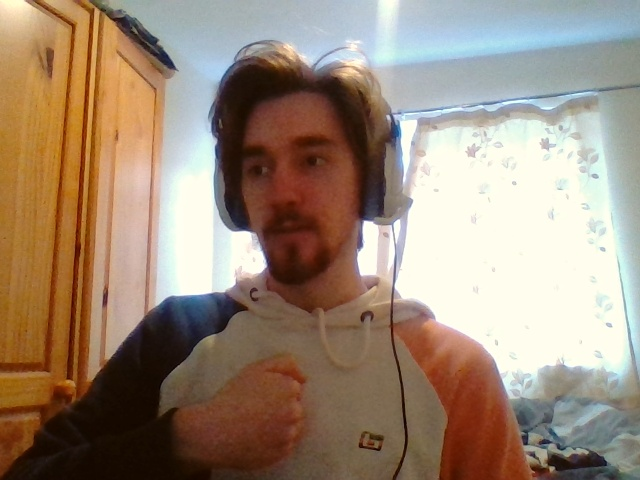morning: (210, 352, 307, 471)
